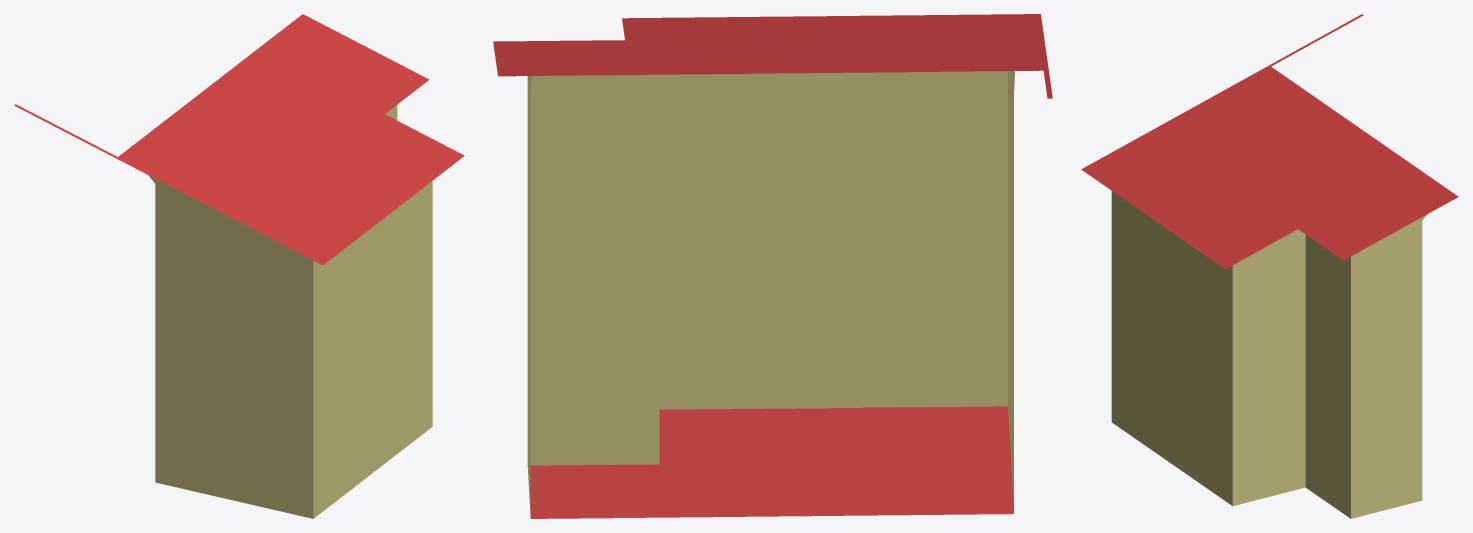
The picture shows the model from 3 angles, left to right: view 1: azimuth 30°, elevation 25°; view 2: azimuth 150°, elevation 25°; view 3: azimuth 270°, elevation 25°; orthographic projection. The views are drawn at different scales.
Bounding box in the file's own units: 9.82 × 8.47 × 8.23.
